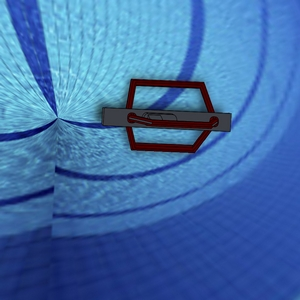submarine: (84, 61, 247, 170)
